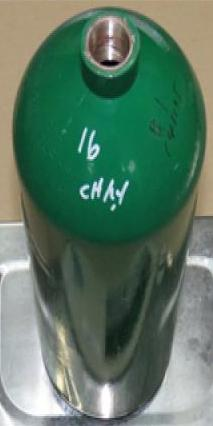cylinder: (1, 1, 213, 426)
